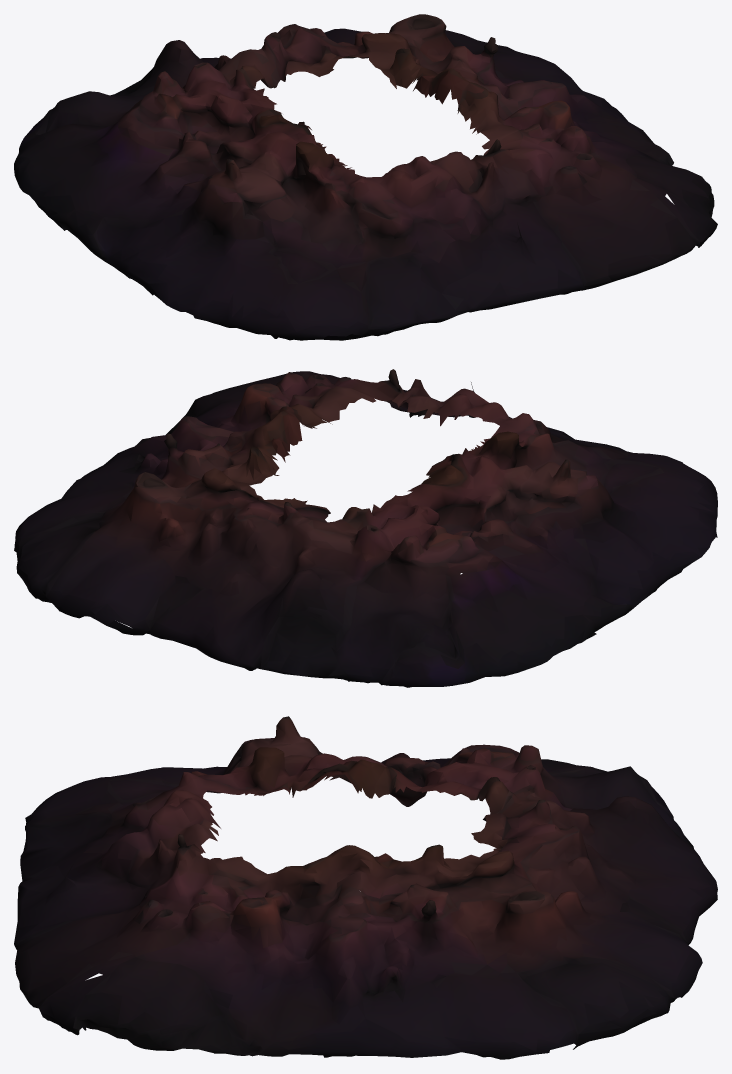
The picture shows the model from 3 angles, top to bottom: view 1: azimuth 30°, elevation 25°; view 2: azimuth 150°, elevation 25°; view 3: azimuth 270°, elevation 25°; orthographic projection. The views are drawn at different scales.
Visible parts, largest first — view 1: cliffrock_generator59.064; view 2: cliffrock_generator59.064; view 3: cliffrock_generator59.064.
Boxes of the visible parts, x1,y1,x2,y2 form: cliffrock_generator59.064: [14, 14, 717, 340]; cliffrock_generator59.064: [14, 369, 717, 687]; cliffrock_generator59.064: [14, 716, 717, 1059].
Size of the model in its own units: 16356 by 3192 by 16921.
